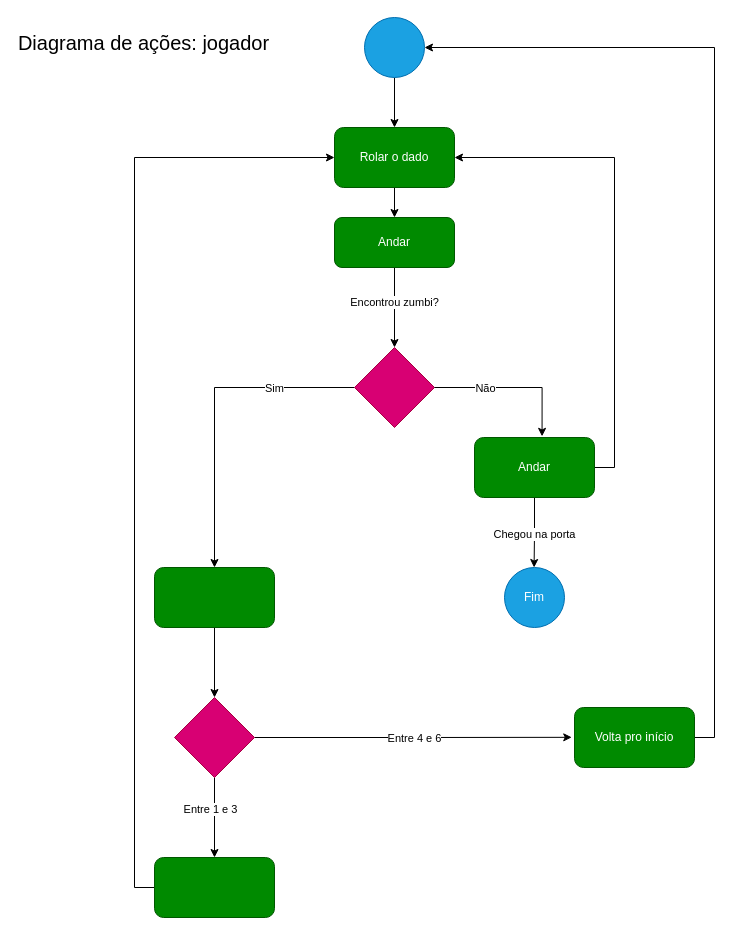
Some shapes in this 740 by 935 pixel diagram are drawn without their labels. The shapes that lost their labels are listed below. From the top down, each one's centre as x and y in pixels, then its label:
point 394,47: Início
point 214,597: Rola o dado
point 214,887: Mata o zumbi e joga de novo
